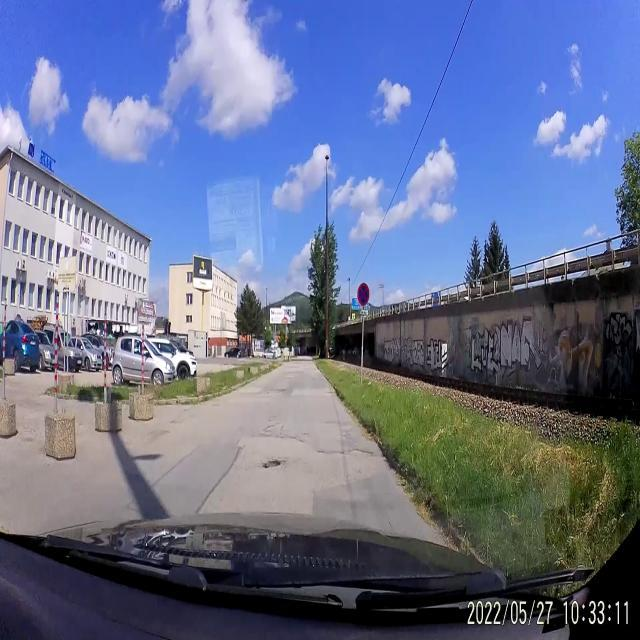Pothole: (262, 452, 284, 478), (348, 442, 374, 462), (316, 446, 344, 458), (260, 422, 277, 436), (272, 385, 288, 394), (285, 432, 297, 442), (210, 402, 220, 409), (301, 430, 310, 437), (298, 438, 306, 444)
